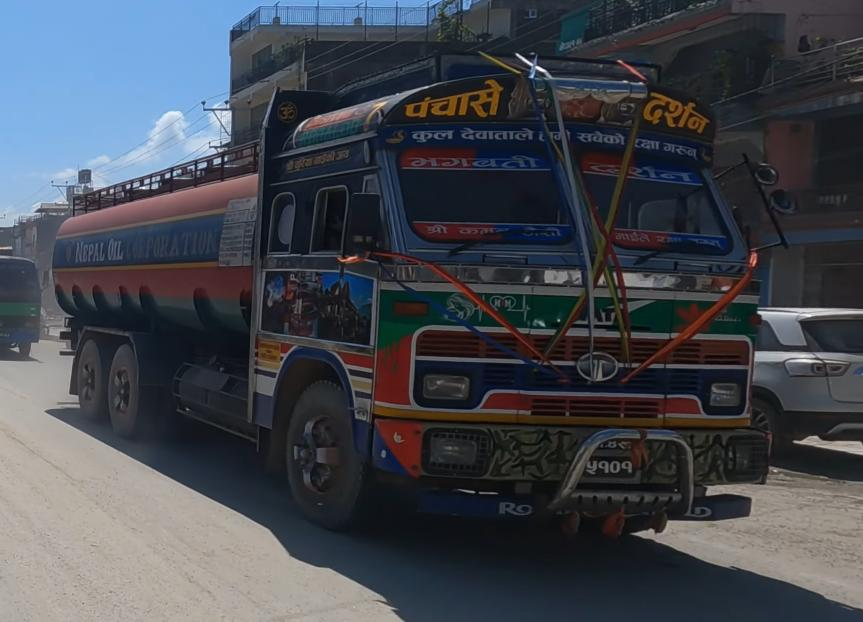bus: (0, 248, 46, 363)
truck: (51, 49, 793, 541)
